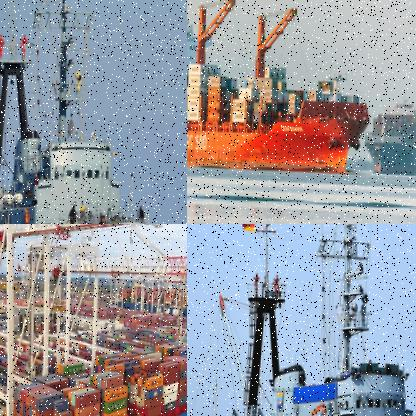Merchant Ship: (187, 0, 374, 177), (0, 298, 186, 415), (363, 99, 415, 176), (117, 286, 186, 323)
Military Ship: (187, 224, 415, 415), (0, 0, 161, 223)
